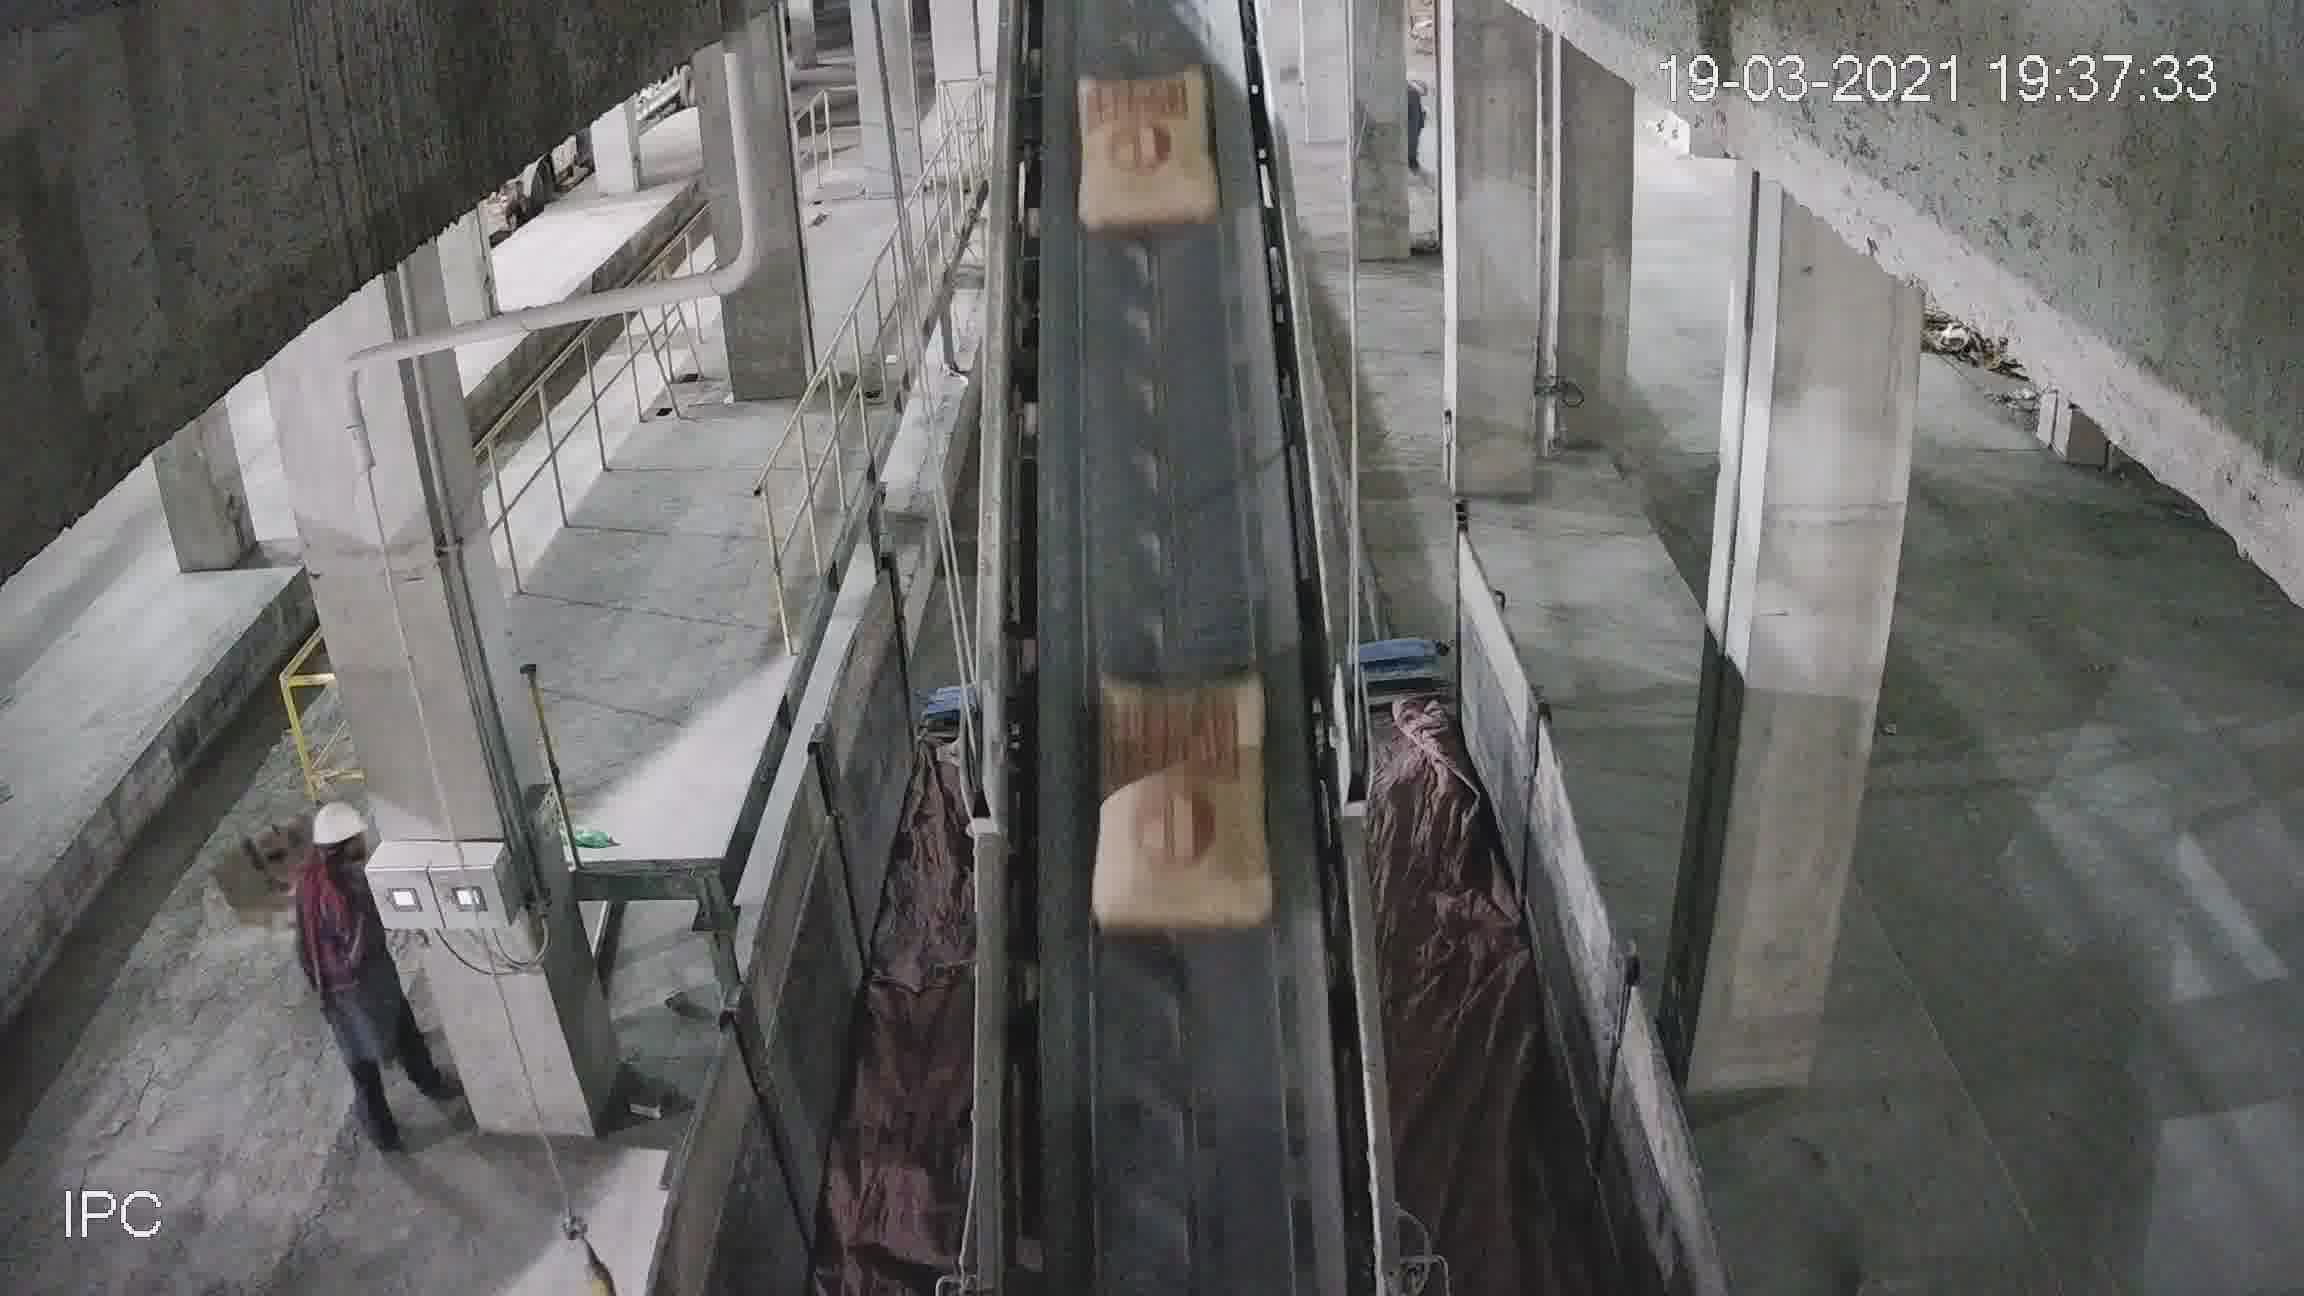bag: (1093, 677, 1269, 926), (1078, 66, 1212, 225)
belt: (991, 11, 1372, 1180)
